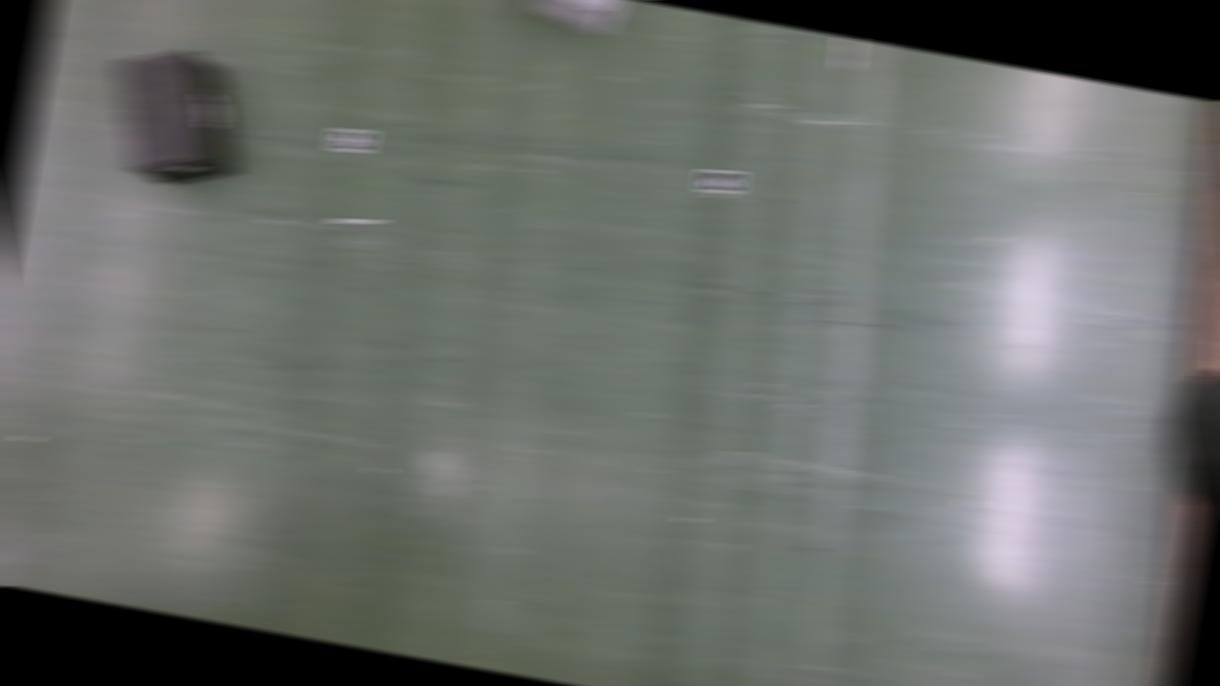probes: (828, 35, 866, 71), (331, 214, 382, 233)
rako: (96, 39, 255, 197)
